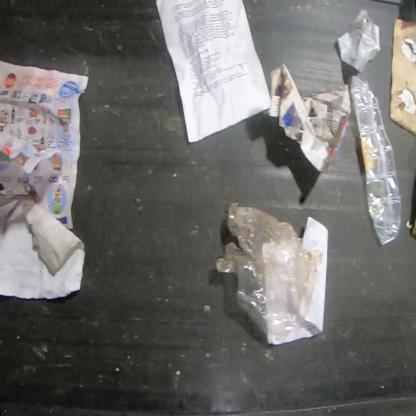cardboard: (389, 19, 415, 136)
rigid_plastic: (350, 70, 402, 247)
soft_plastic: (216, 203, 322, 336)
